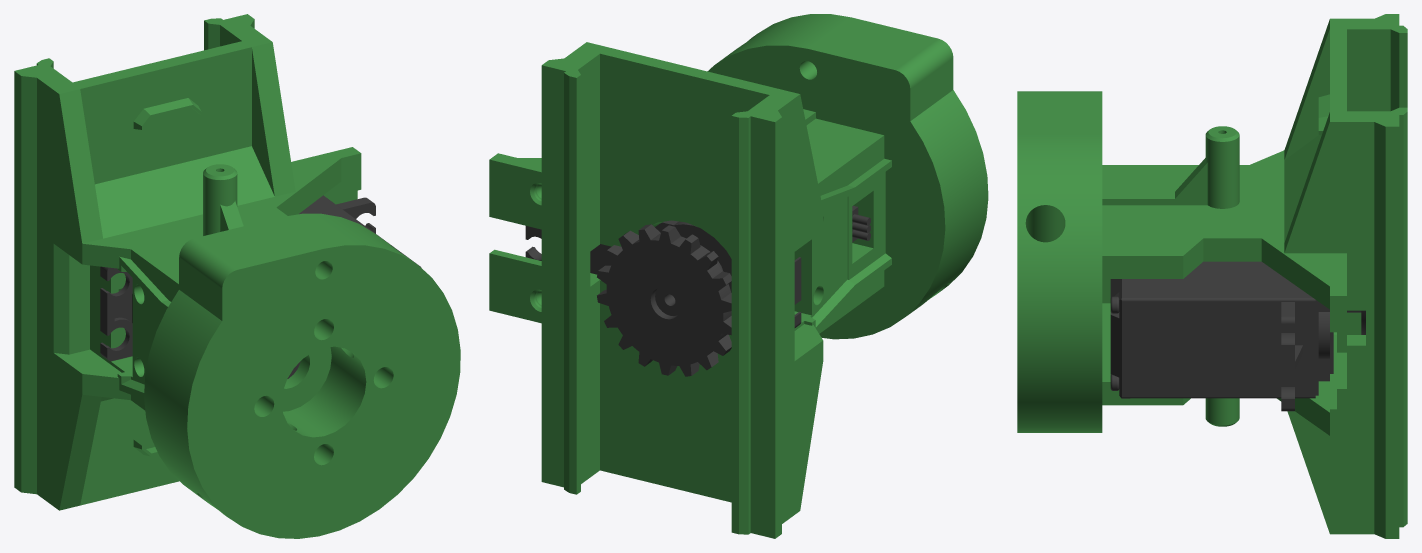
File: Gripper2_base_with_servo.dae
The picture shows the model from 3 angles, left to right: view 1: azimuth 30°, elevation 25°; view 2: azimuth 150°, elevation 25°; view 3: azimuth 270°, elevation 25°; orthographic projection.
Visible parts, largest first — view 1: g Body1, g Body1:4, g Body1:3; view 2: g Body1, g Body1:4, g Body1:1, g Body1:3; view 3: g Body1, g Body1:4, g Body2, g Body1:3, g Body3.
Boxes of the visible parts, <box> form: g Body1: <box>14,14,361,510</box>; g Body1:4: <box>144,213,460,538</box>; g Body1:3: <box>100,195,375,361</box>; g Body1: <box>489,42,891,538</box>; g Body1:4: <box>707,14,988,339</box>; g Body1:1: <box>597,224,731,376</box>; g Body1:3: <box>525,220,801,327</box>; g Body1: <box>1102,14,1407,538</box>; g Body1:4: <box>1017,91,1102,432</box>; g Body2: <box>1156,261,1275,398</box>; g Body1:3: <box>1275,272,1333,411</box>; g Body3: <box>1110,279,1156,398</box>.
Size of the model in its own units: 6.68 by 8 by 6.87.
